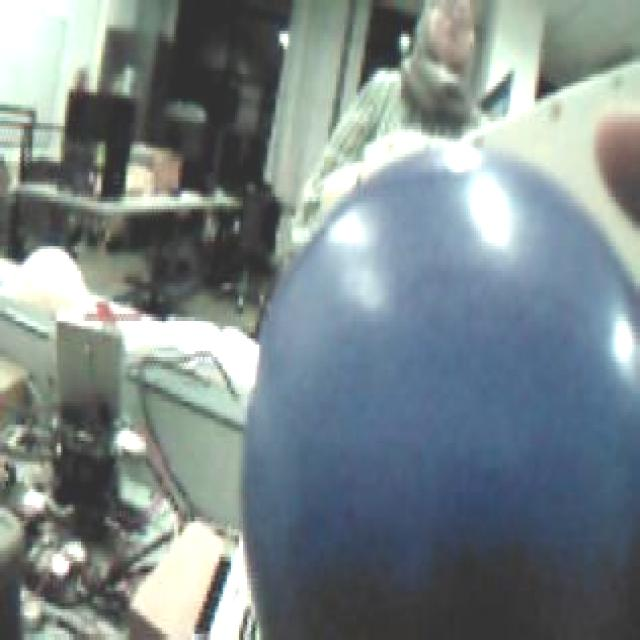BallPurple: (243, 154, 640, 640)
